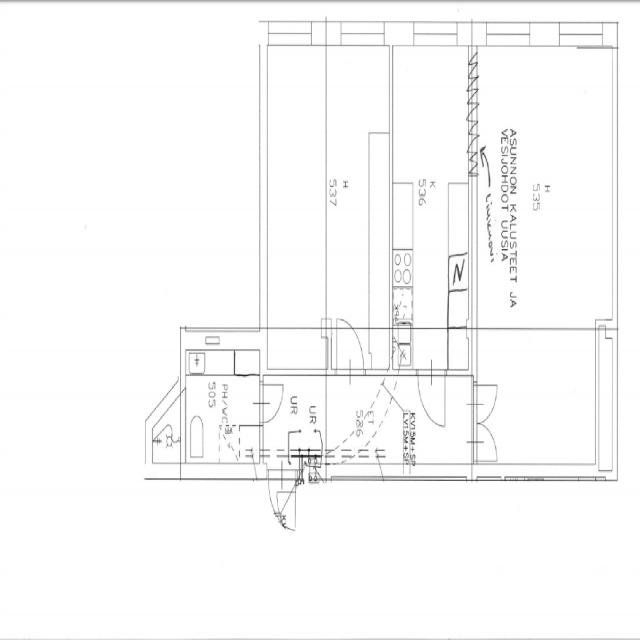door: (330, 311, 368, 381), (267, 461, 298, 530), (416, 364, 448, 430), (476, 405, 500, 466), (474, 379, 501, 433), (260, 375, 286, 427)
zone: (391, 39, 473, 336), (182, 349, 262, 473), (260, 373, 327, 458)
